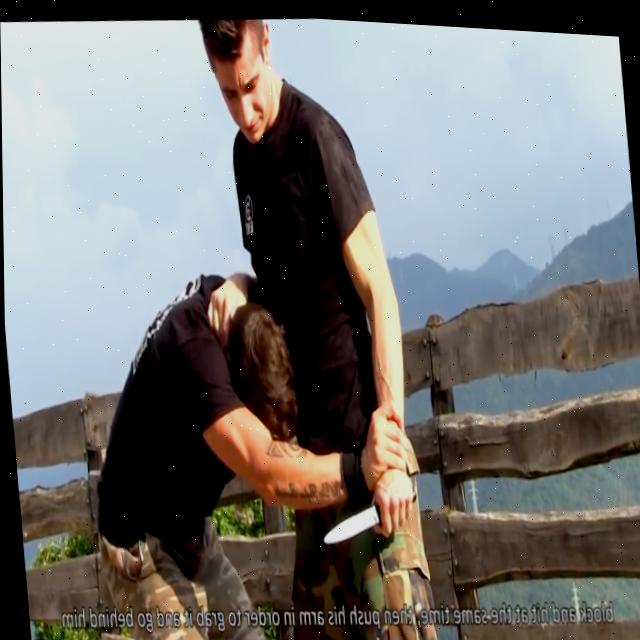knife: (318, 495, 382, 542)
